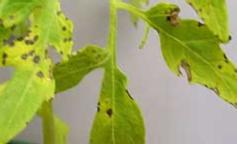Tomato leaf bacterial spot: (129, 0, 237, 116), (0, 0, 82, 144), (89, 54, 147, 144)
